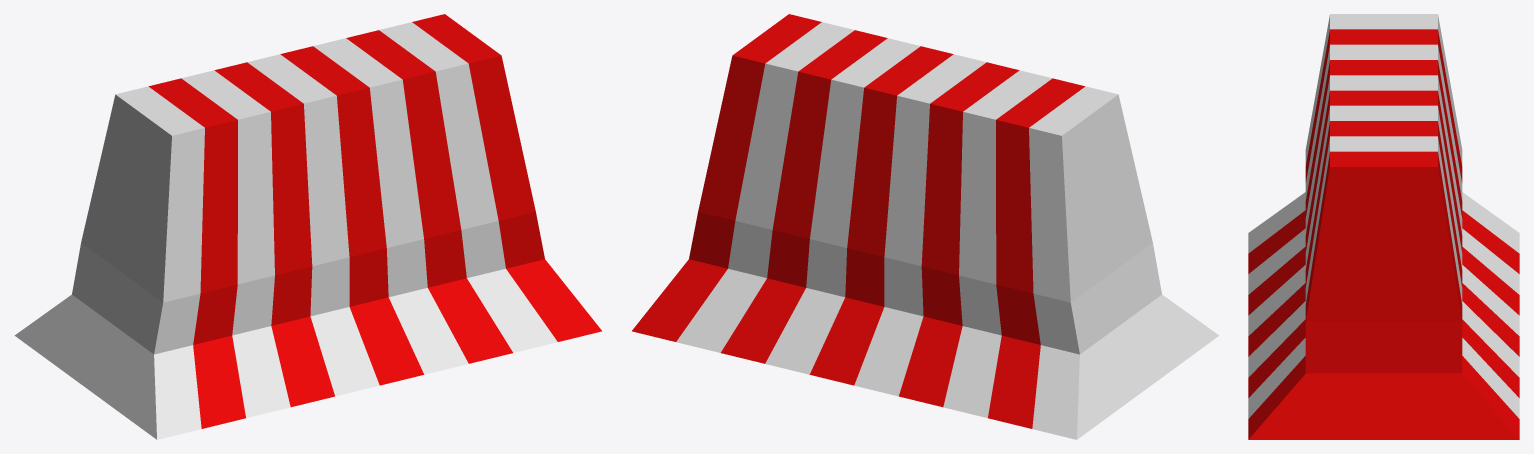
File: barrier.fbx
The picture shows the model from 3 angles, left to right: view 1: azimuth 30°, elevation 25°; view 2: azimuth 150°, elevation 25°; view 3: azimuth 270°, elevation 25°; orthographic projection. The views are drawn at different scales.
Visible parts, largest first — view 1: Cube; view 2: Cube; view 3: Cube.
Boxes of the visible parts, x1=… form: Cube: x1=14, y1=14, x2=601, y2=439; Cube: x1=632, y1=14, x2=1219, y2=439; Cube: x1=1248, y1=14, x2=1519, y2=439.
Size of the model in its own units: 361 by 200 by 200.
